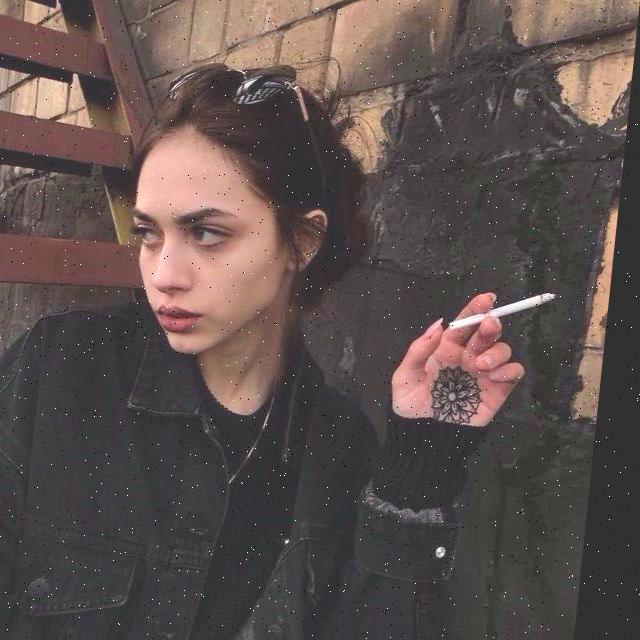cigarette: (455, 292, 562, 332)
